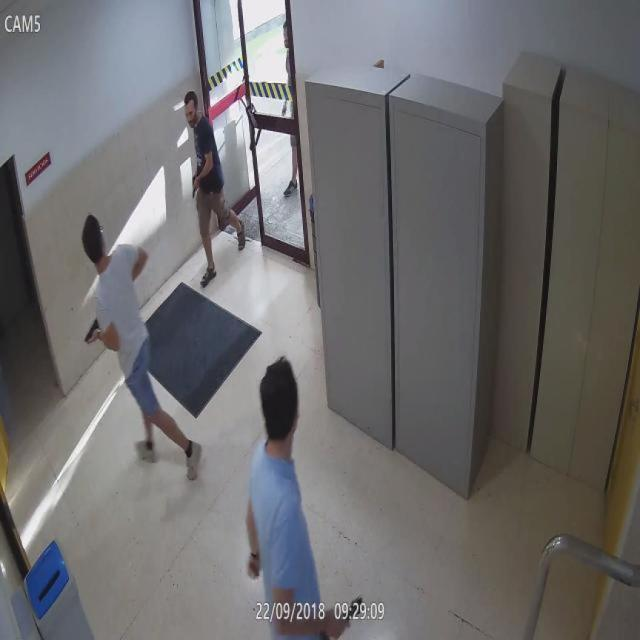pistol: (191, 168, 200, 198), (280, 105, 285, 118)
